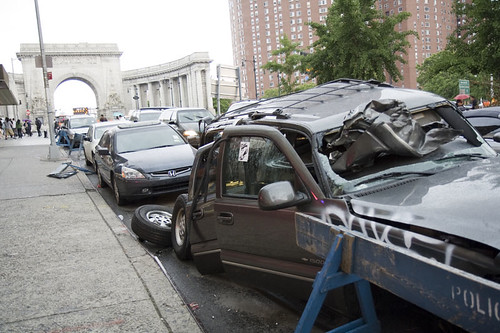building: (233, 1, 463, 105), (25, 36, 205, 128)
car: (185, 82, 500, 333), (93, 129, 204, 206)
sidewalk: (5, 142, 149, 333)
tree: (284, 1, 401, 87), (430, 1, 500, 86)
